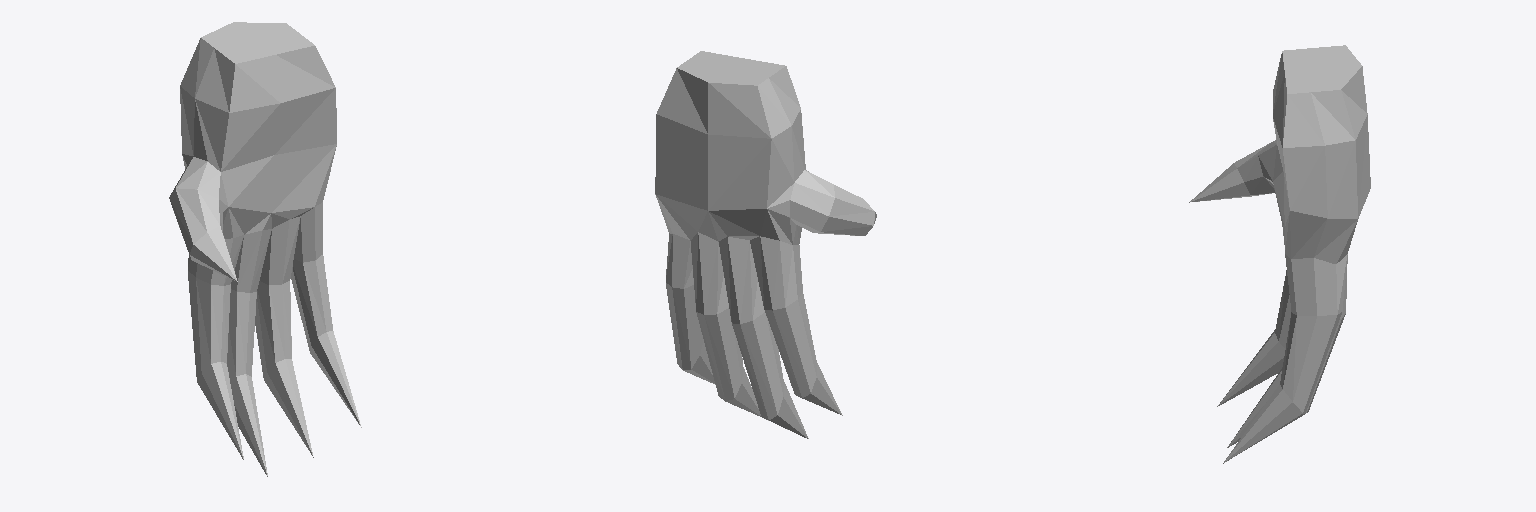
File: apollyonclaw.obj
3 views of the same model, side by side, from view 1: azimuth 30°, elevation 25°; view 2: azimuth 150°, elevation 25°; view 3: azimuth 270°, elevation 25° (orthographic).
Visible parts, largest first — view 1: apollyonclaw; view 2: apollyonclaw; view 3: apollyonclaw.
Boxes of the visible parts, box(x1,y1,x2,y2) form: apollyonclaw: box(169, 22, 361, 476); apollyonclaw: box(655, 51, 876, 438); apollyonclaw: box(1189, 45, 1370, 463).
Bounding box in the file's own units: 0.3531 × 0.7812 × 0.3225.